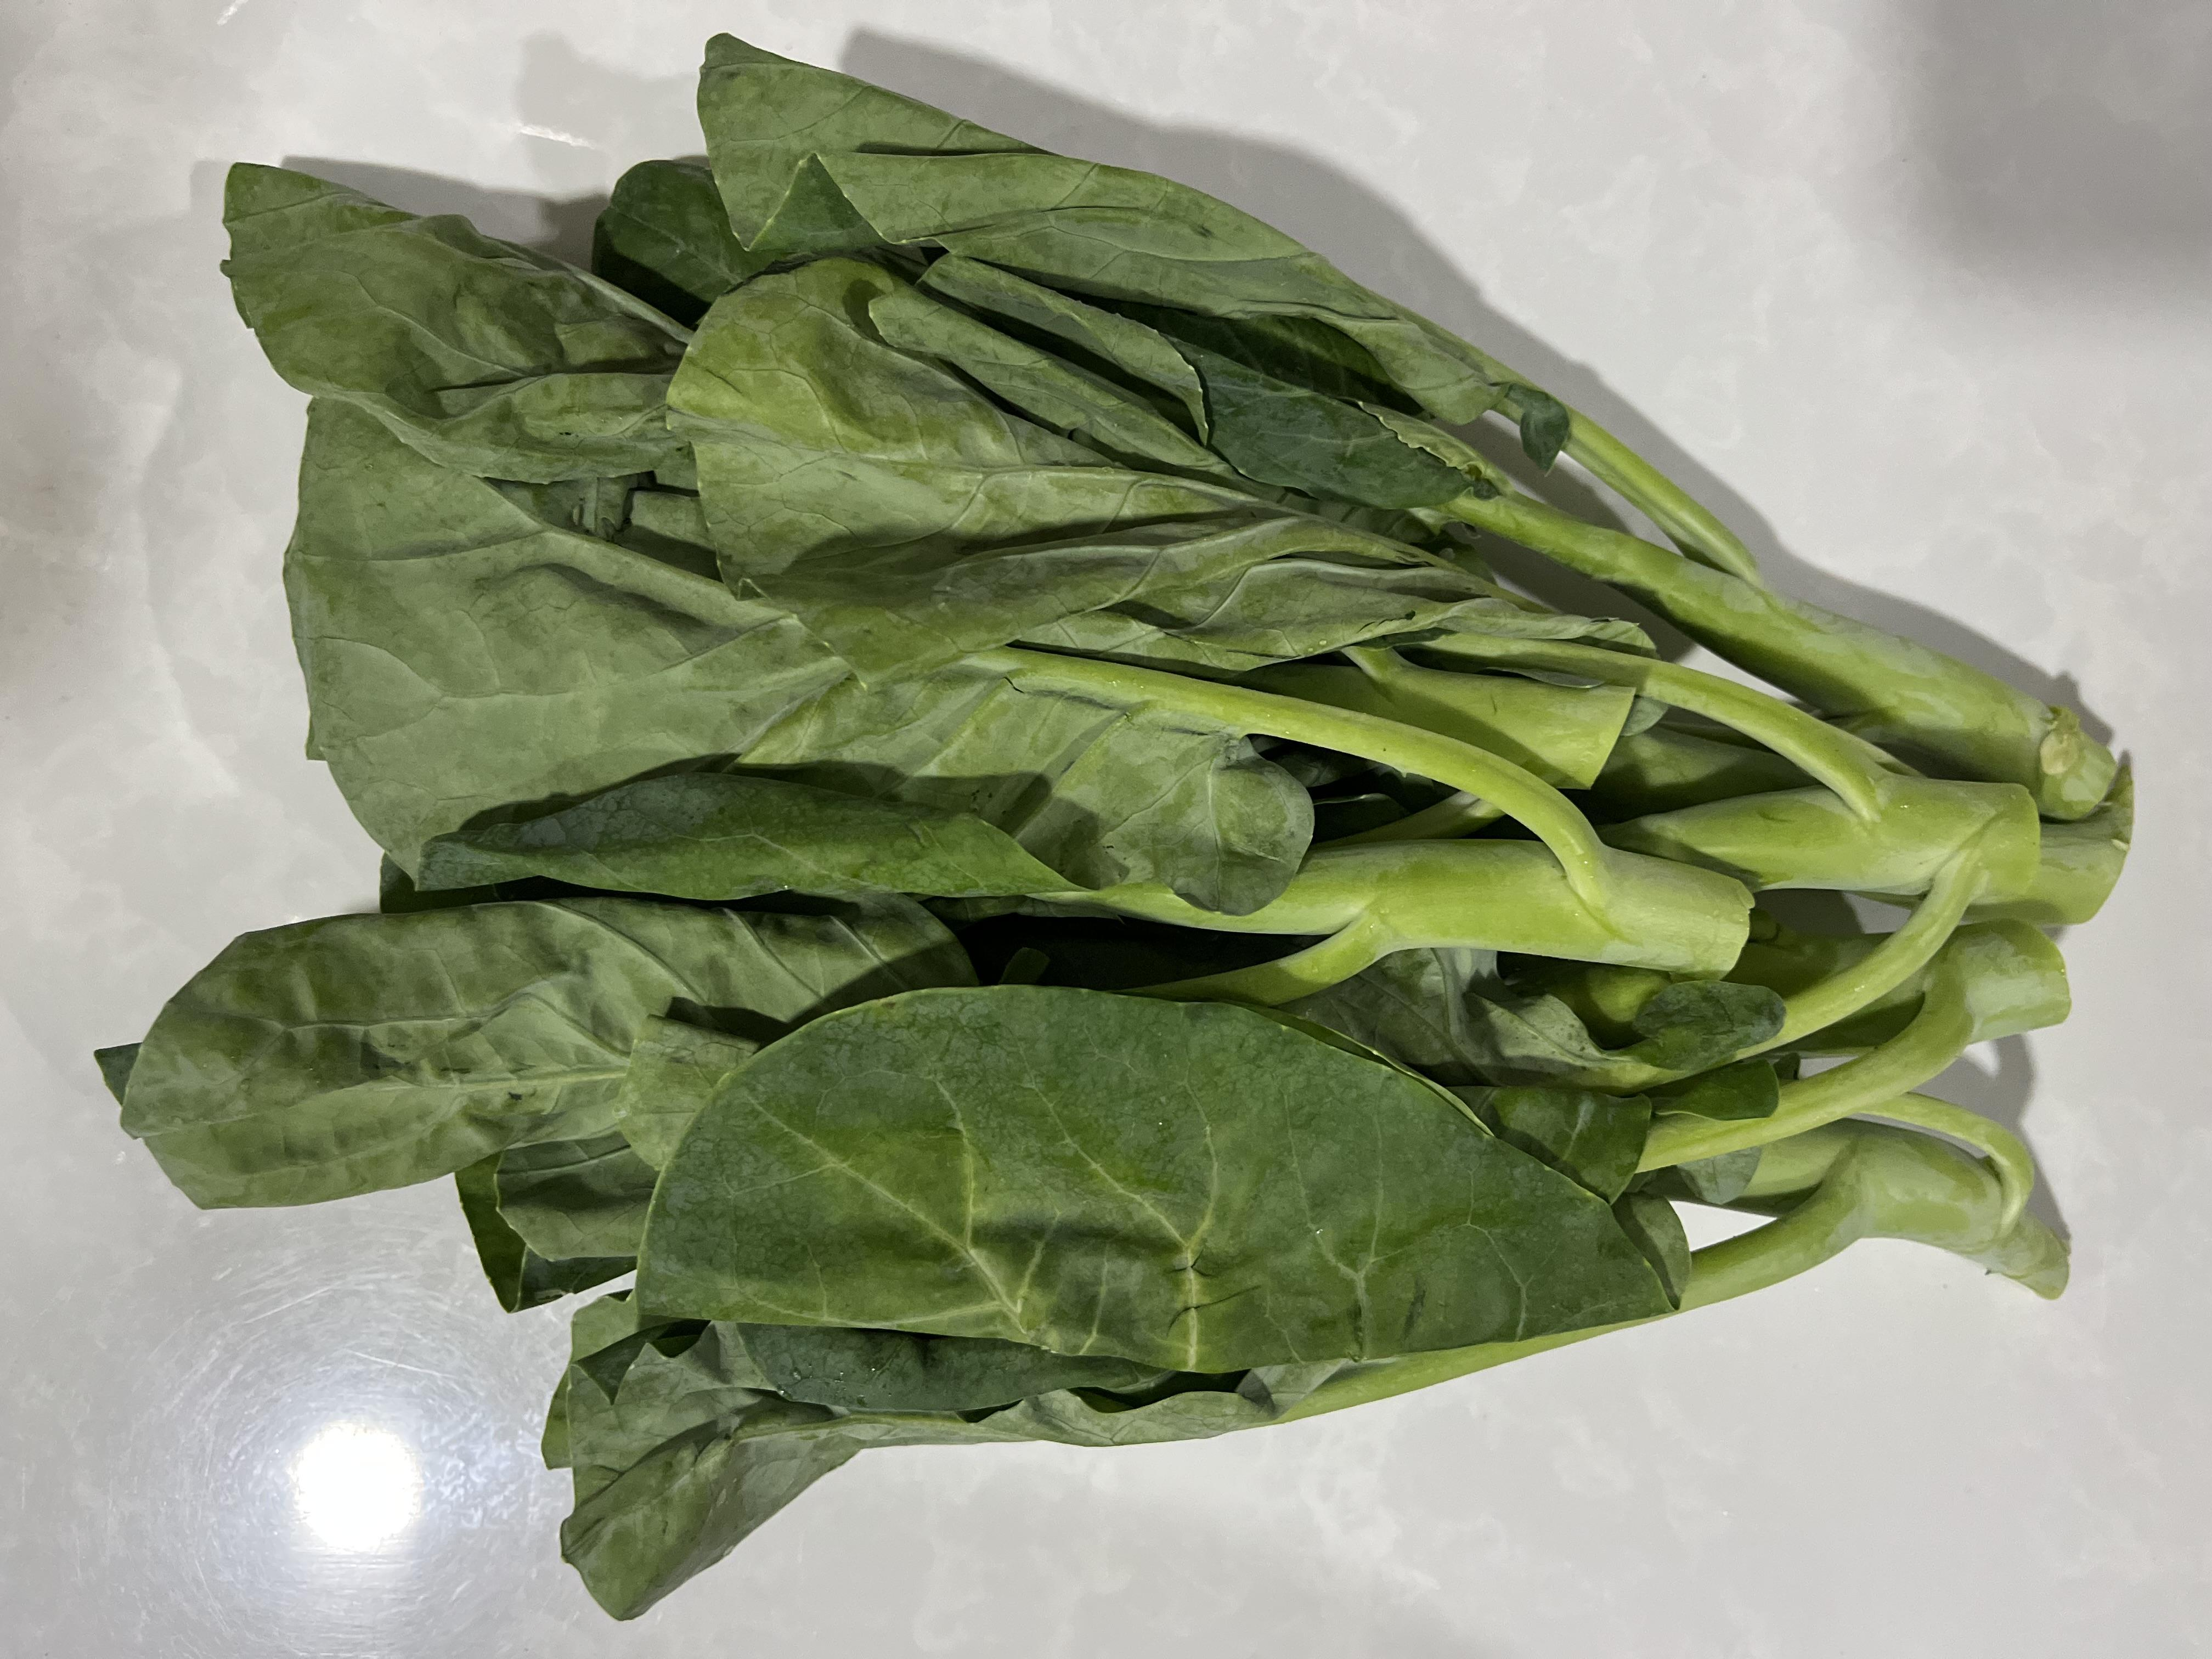Healthy-Pechay: (209, 71, 1970, 1466)
